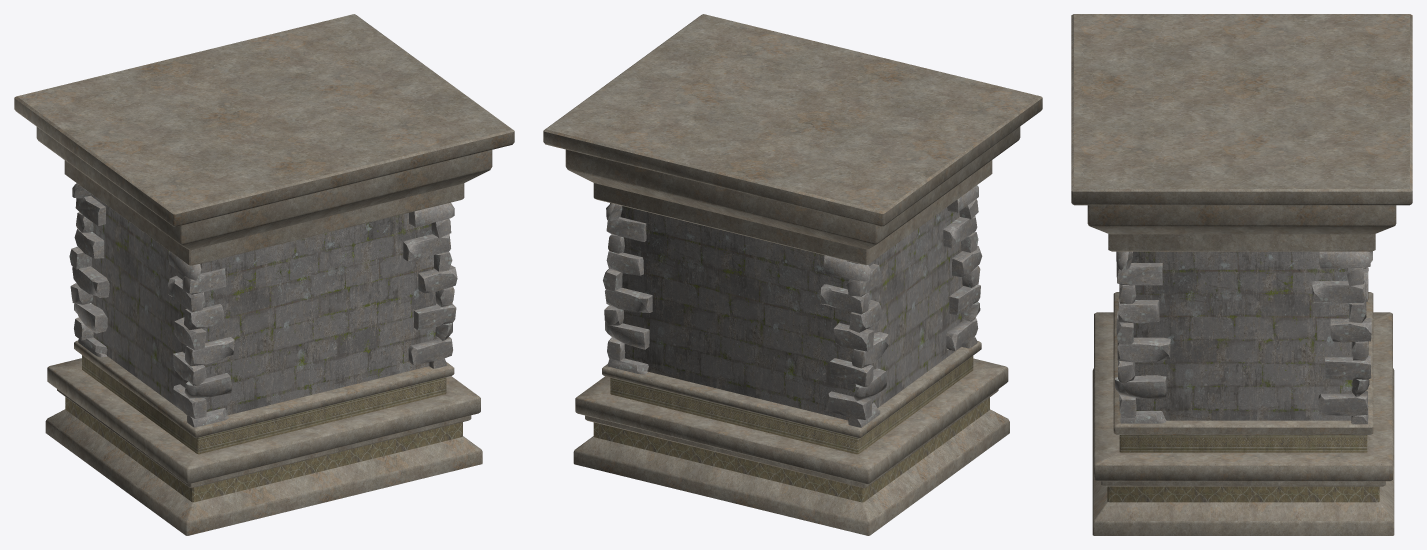
File: sm_big_support_pillar_2.fbx
3 views of the same model, side by side, from view 1: azimuth 30°, elevation 25°; view 2: azimuth 150°, elevation 25°; view 3: azimuth 270°, elevation 25° (orthographic). The views are drawn at different scales.
Parts seen in each view (by area): view 1: sm_big_support_pillar_2_LOD0; view 2: sm_big_support_pillar_2_LOD0; view 3: sm_big_support_pillar_2_LOD0.
Boxes of the visible parts, x1,y1,x2,y2 form: sm_big_support_pillar_2_LOD0: (14,14,514,535); sm_big_support_pillar_2_LOD0: (543,14,1042,535); sm_big_support_pillar_2_LOD0: (1071,14,1412,535).
Size of the model in its own units: 450 by 366 by 423.
